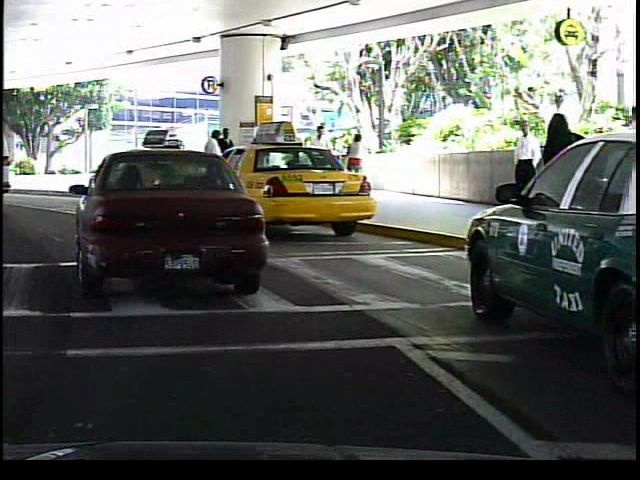person: (535, 105, 591, 257), (504, 113, 542, 221), (304, 123, 334, 194), (200, 128, 226, 198), (341, 130, 368, 191), (218, 125, 237, 194)
